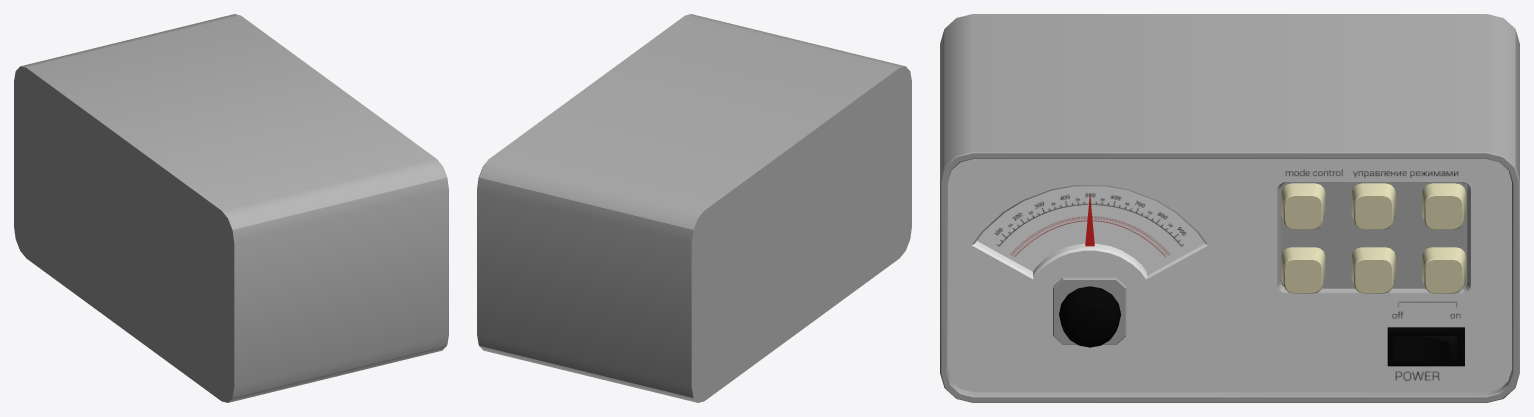
Rendered from radio.fbx.
3 renders of one model, left to right at view 1: azimuth 30°, elevation 25°; view 2: azimuth 150°, elevation 25°; view 3: azimuth 270°, elevation 25°, orthographic. The views are drawn at different scales.
Visible parts, largest first — view 1: Radio; view 2: Radio; view 3: Radio, Knob, Key1, Key4, Key2, Key5, Key3, Key6, PowerButton, PowerButtonFrame.
Part boxes in pixels (bbox=[...]): Radio: bbox=[14, 14, 448, 402]; Radio: bbox=[477, 14, 911, 402]; Radio: bbox=[940, 14, 1519, 402]; Knob: bbox=[1059, 286, 1120, 347]; Key1: bbox=[1281, 183, 1325, 229]; Key4: bbox=[1281, 247, 1325, 293]; Key2: bbox=[1351, 183, 1395, 229]; Key5: bbox=[1351, 247, 1395, 293]; Key3: bbox=[1422, 183, 1465, 229]; Key6: bbox=[1422, 247, 1465, 293]; PowerButton: bbox=[1394, 335, 1457, 365]; PowerButtonFrame: bbox=[1387, 327, 1464, 366].
Size of the model in its own units: 43.63 by 33.86 by 70.86.
7 materials, 1 textured.
